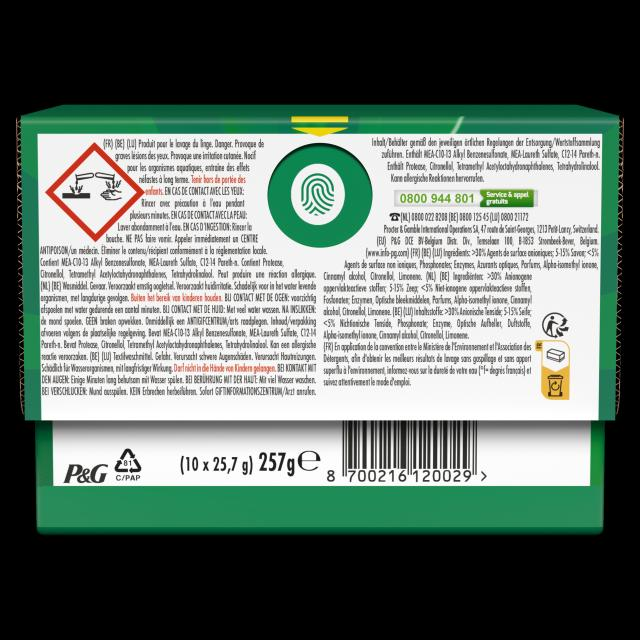GHS_Symbol_CORROSION: (46, 141, 144, 242)
